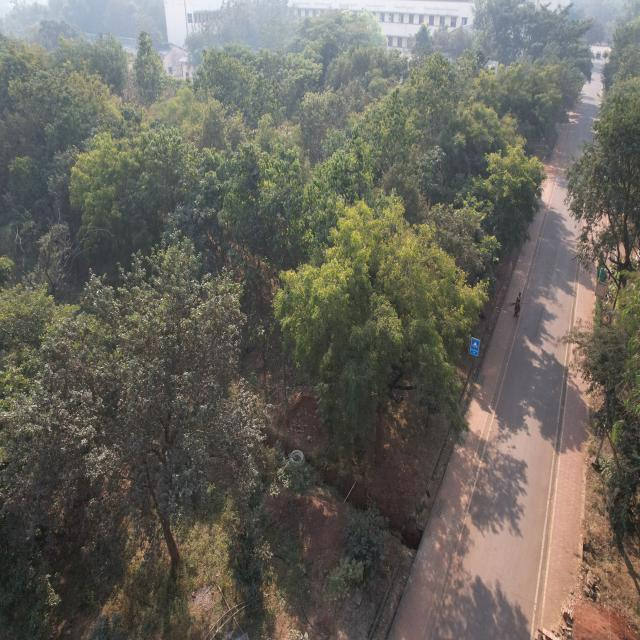Neem-Tree: (284, 222, 476, 404)
